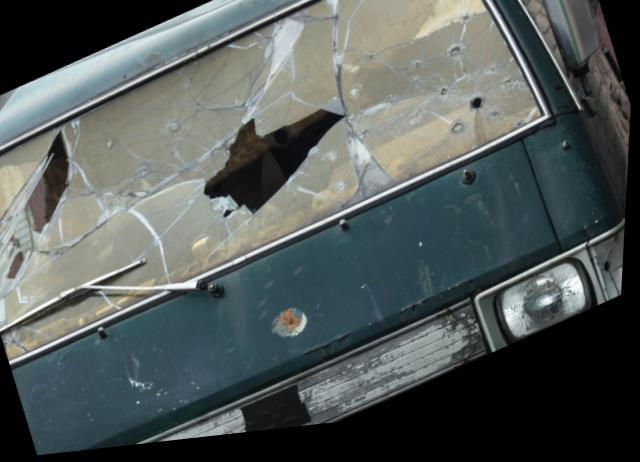glass shatter: (0, 0, 546, 361)
